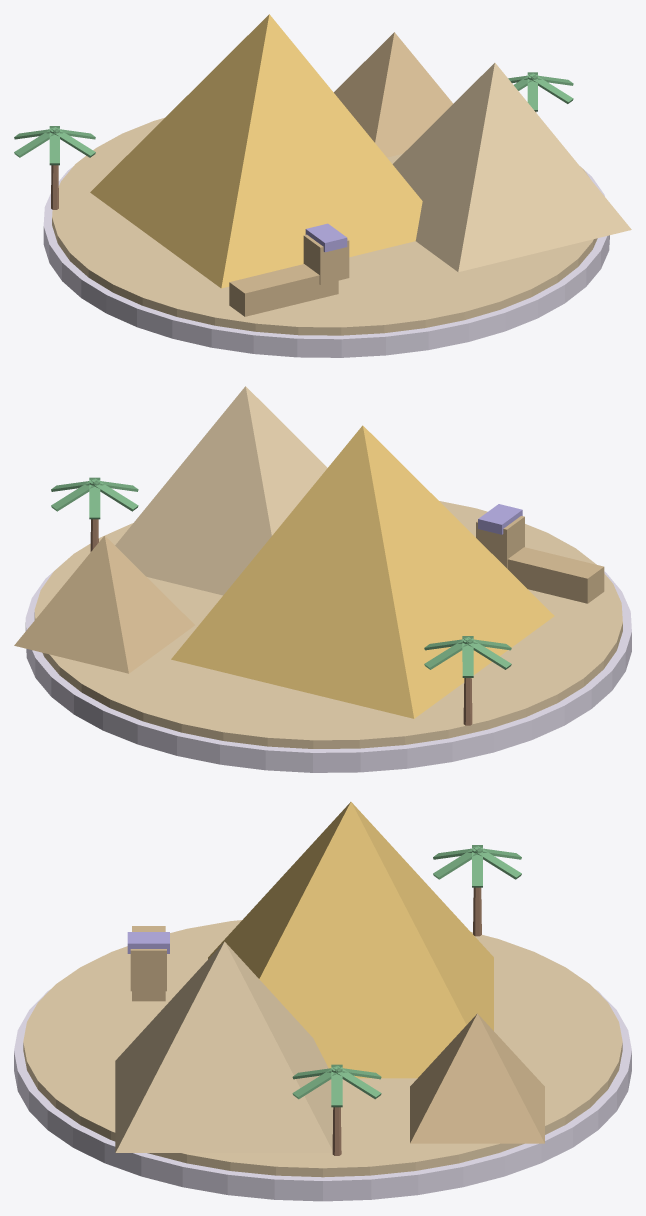
Rendered from piramit.glb.
The picture shows the model from 3 angles, top to bottom: view 1: azimuth 30°, elevation 25°; view 2: azimuth 150°, elevation 25°; view 3: azimuth 270°, elevation 25°; orthographic projection. The views are drawn at different scales.
Visible parts, largest first — view 1: piramit; view 2: piramit; view 3: piramit.
Boxes of the visible parts, bbox=[...] form: piramit: bbox=[14, 14, 631, 357]; piramit: bbox=[14, 386, 631, 772]; piramit: bbox=[14, 802, 631, 1201].
Bounding box in the file's own units: 2.22 × 0.9651 × 2.2.
1 material, 1 textured.
